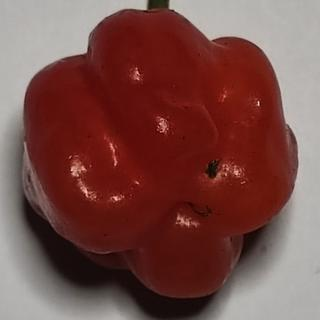Fly-bites: (201, 154, 229, 188)
